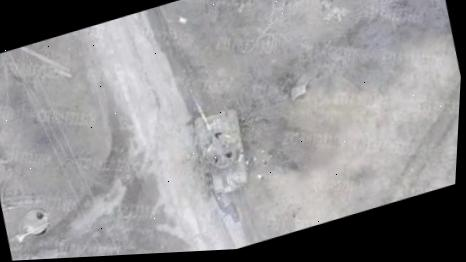tank: (176, 75, 257, 202)
